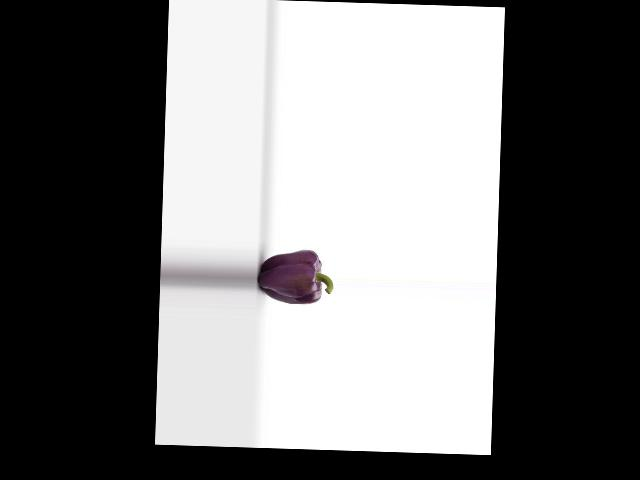bell_pepper: (258, 244, 333, 311)
